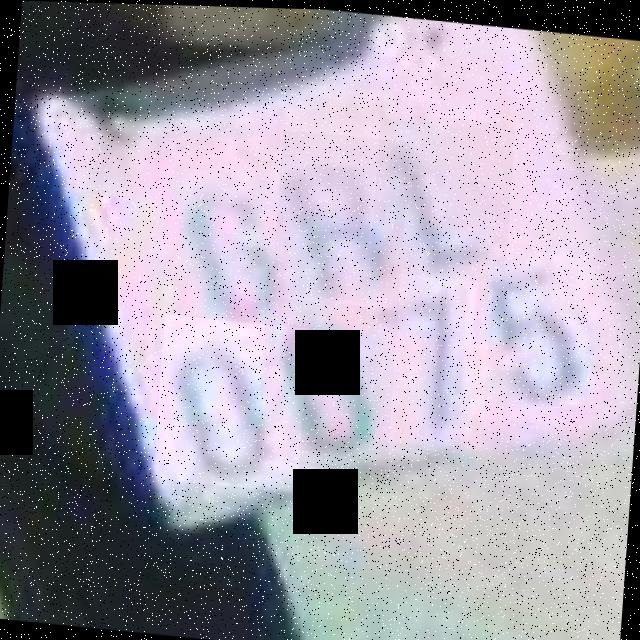0: (153, 313, 308, 491), (255, 294, 398, 470)
6: (458, 241, 602, 425)
7: (357, 263, 492, 447)
B: (272, 127, 409, 303)
J: (370, 108, 516, 280)
